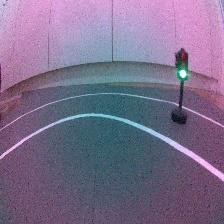green: (168, 48, 194, 127)
